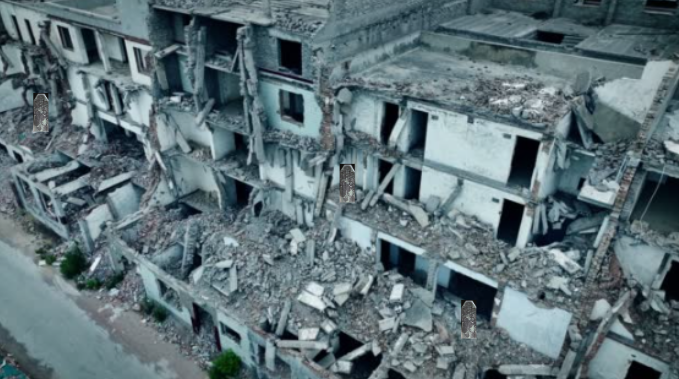HVT1: (33, 94, 48, 132), (462, 300, 477, 336), (340, 165, 354, 200)
